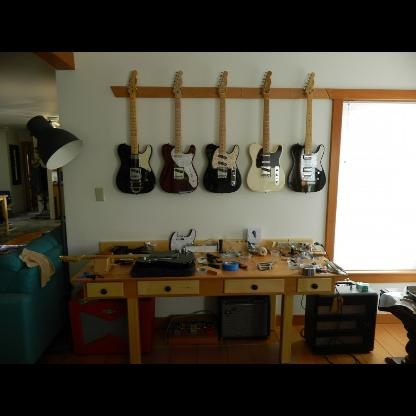guitar: (115, 70, 157, 194), (160, 70, 200, 192), (204, 70, 242, 194), (247, 70, 285, 192), (288, 71, 326, 193), (58, 248, 196, 268)
